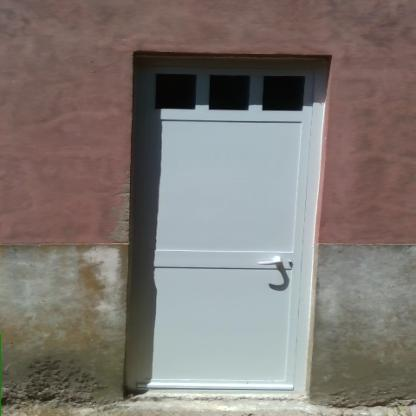closed: (110, 44, 336, 406)
